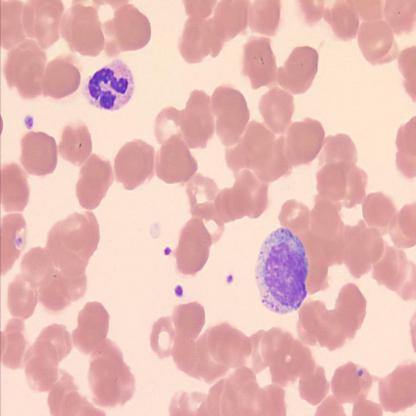Myelocyte: (256, 227, 311, 312)
